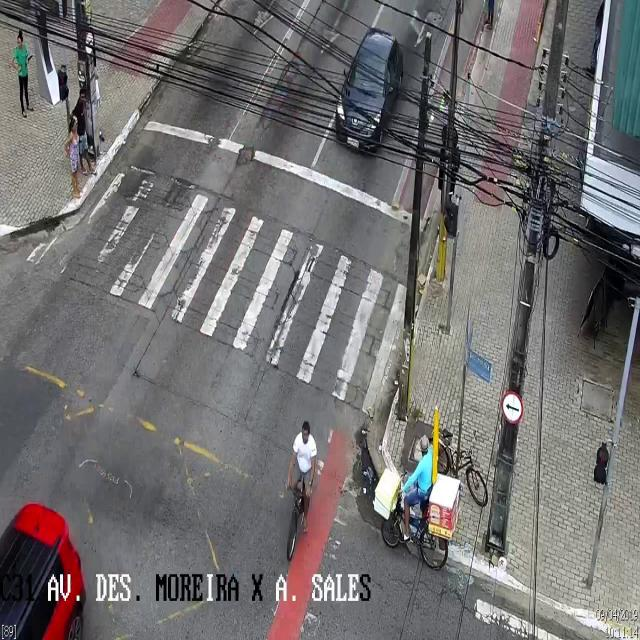Car: (0, 481, 107, 640), (336, 30, 402, 156)
